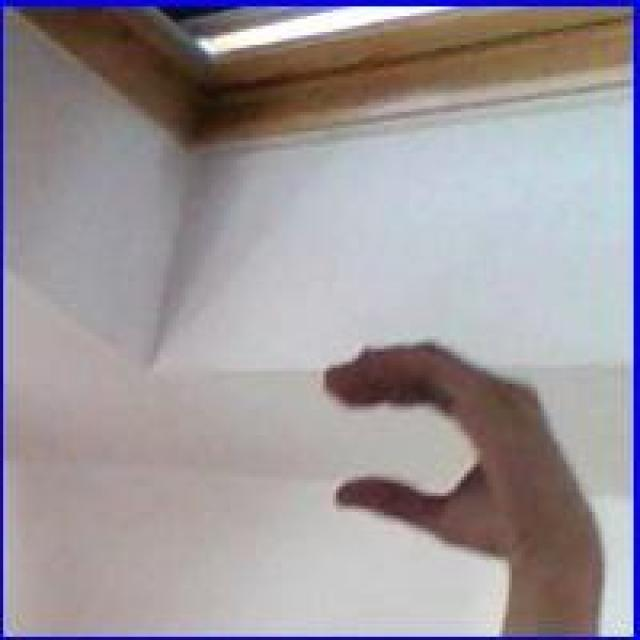C: (315, 341, 594, 558)
